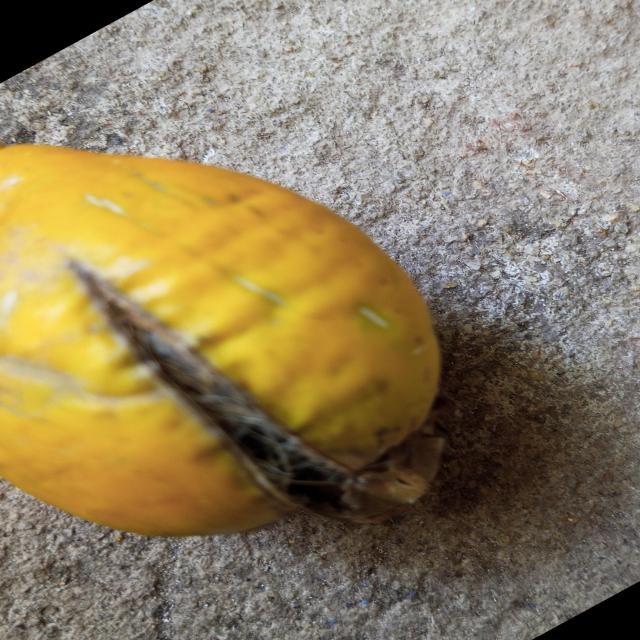damaged: (0, 144, 444, 536)
